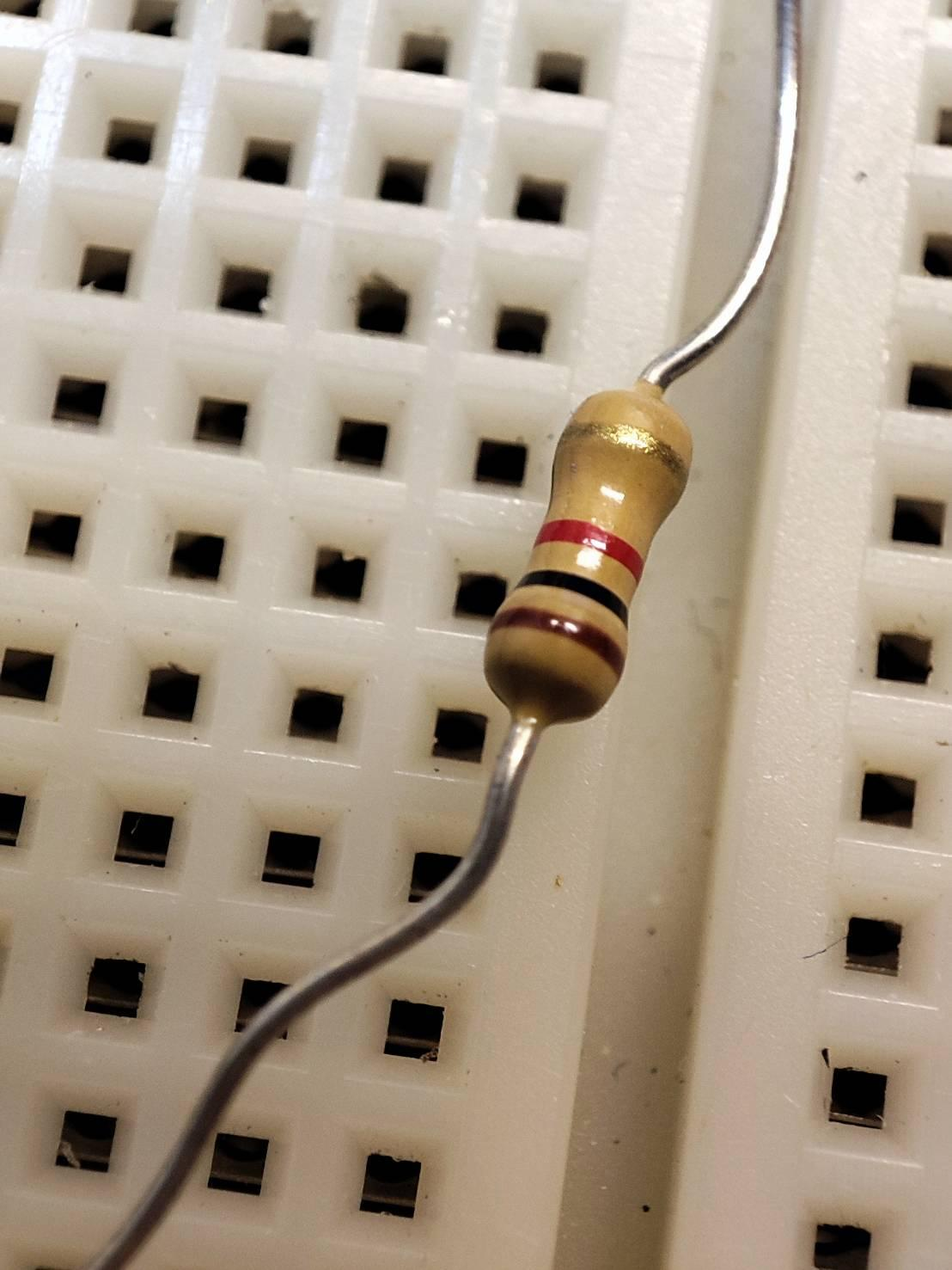resistor: (486, 377, 696, 710)
